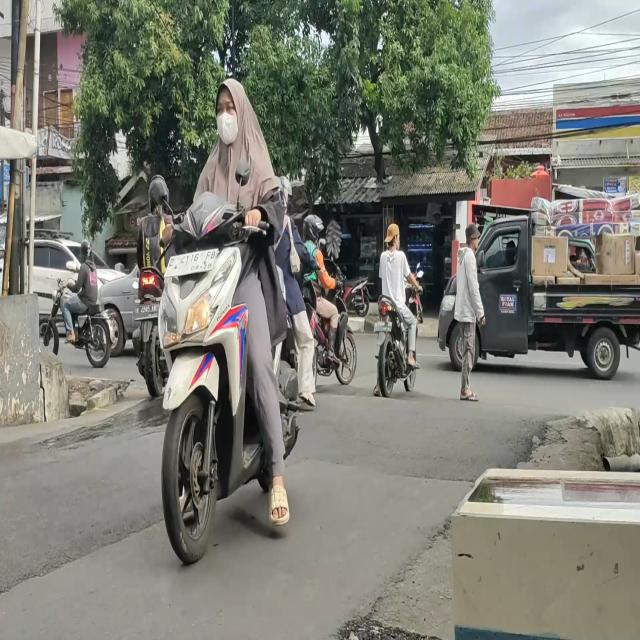helmet: (148, 176, 168, 210), (303, 214, 324, 243), (80, 238, 93, 258)
no-helmet: (214, 74, 250, 146), (386, 222, 400, 249)
